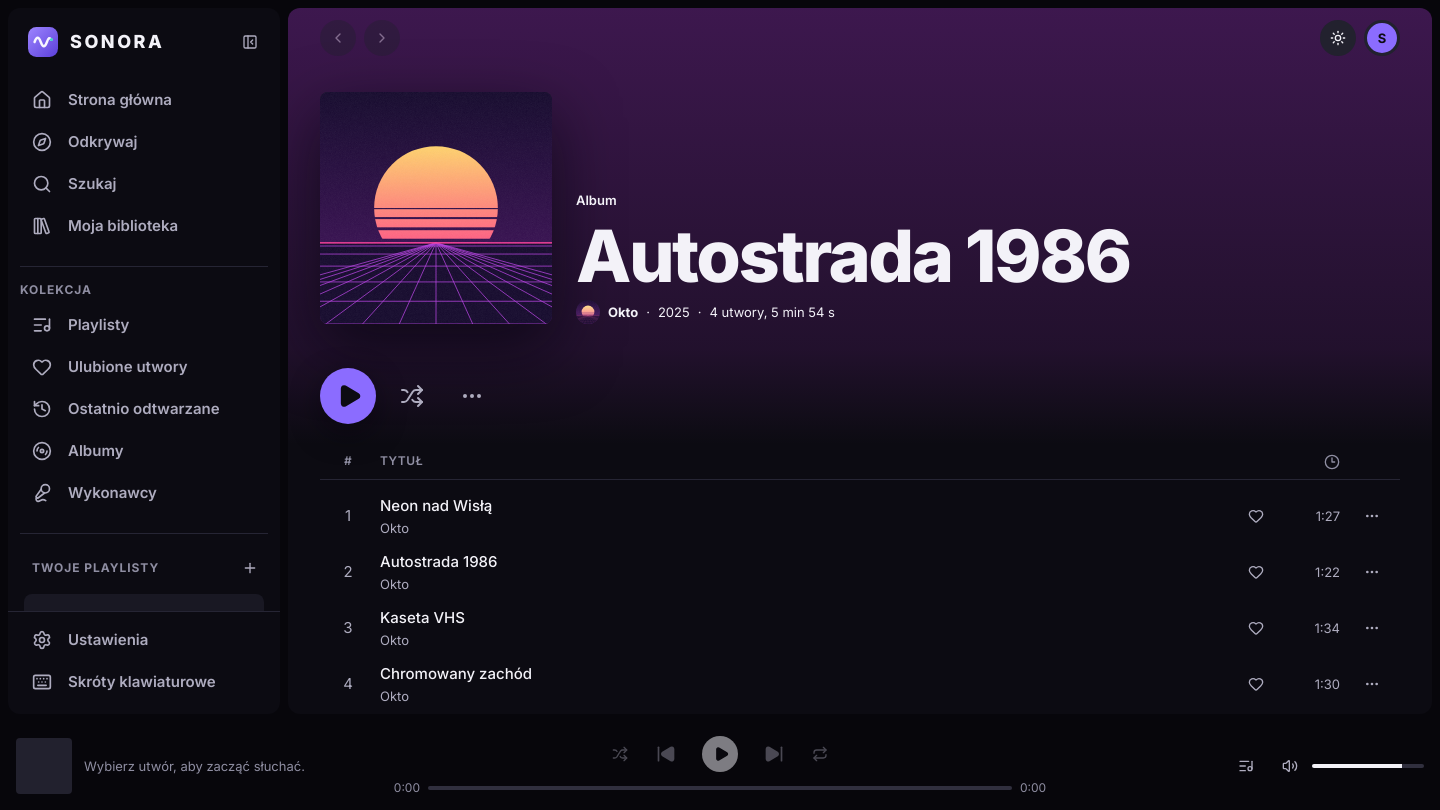
Test: odtwarzacz › odtwarza album i pokazuje bieżący utwór
Click the button named "Odtwórz: Autostrada 1986".
click(348, 396)  # box [320,368,376,424]
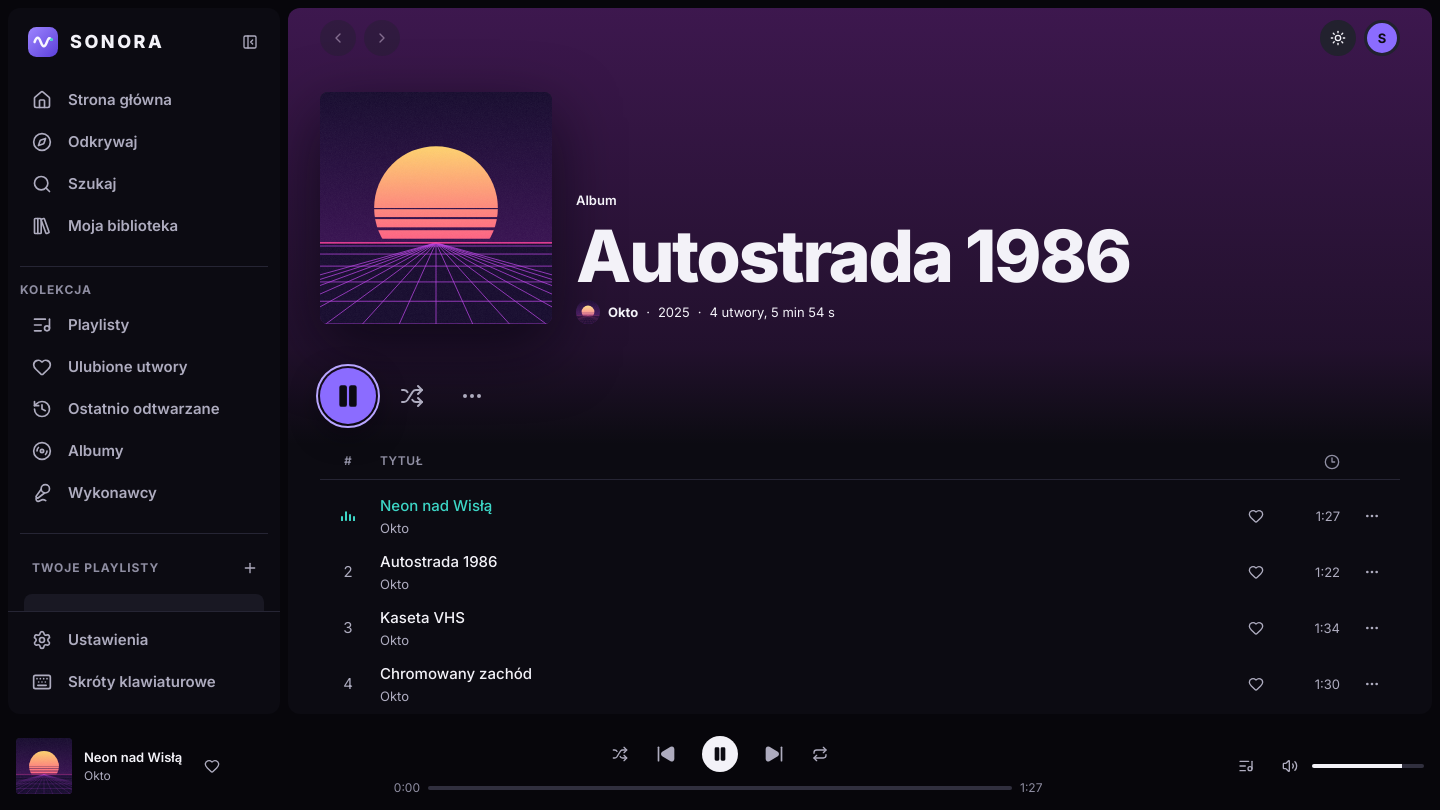
Expected: the link "Neon nad Wisłą" is shown, [84,747,182,767]
Expected: the button named "Wstrzymaj" is shown, [702,736,738,772]
